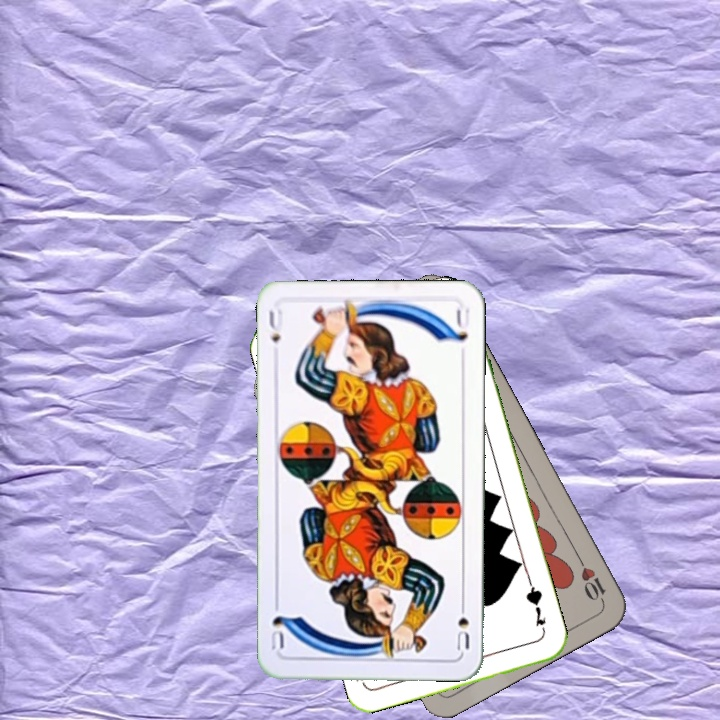G7: (522, 578, 549, 637)
H10: (572, 551, 608, 605)
SU: (452, 595, 472, 652), (264, 306, 285, 346)
